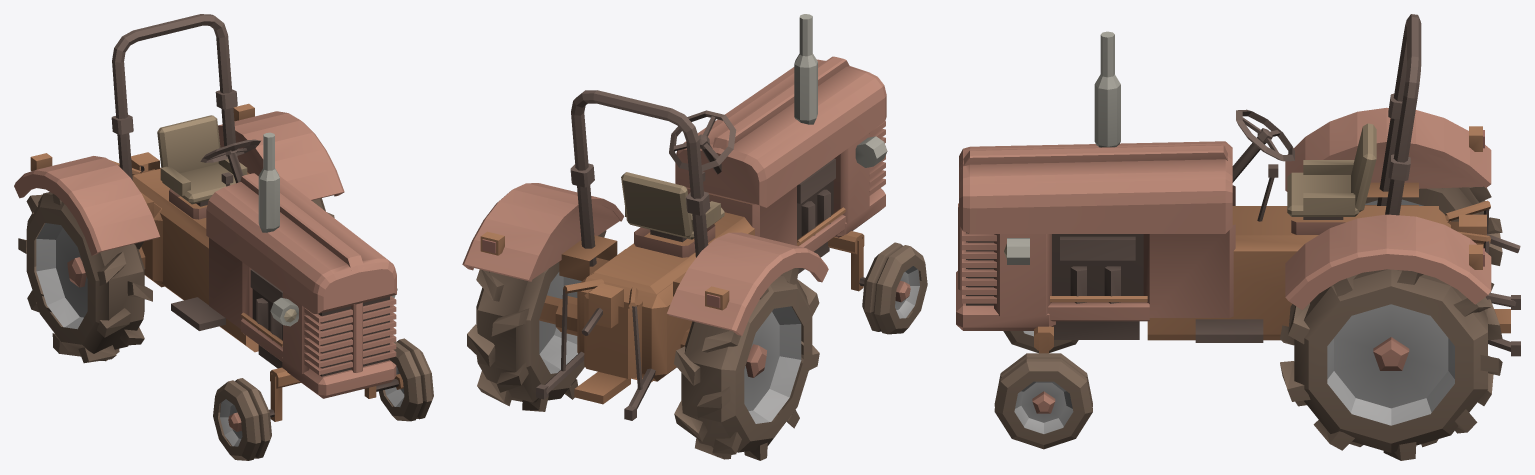
Rendered from tractor.glb.
3 renders of one model, left to right at view 1: azimuth 30°, elevation 25°; view 2: azimuth 150°, elevation 25°; view 3: azimuth 270°, elevation 25°, orthographic. The views are drawn at different scales.
Parts seen in each view (by area): view 1: tractor; view 2: tractor; view 3: tractor.
Boxes of the visible parts, <box> form: tractor: <box>14,14,433,460</box>; tractor: <box>462,14,927,460</box>; tractor: <box>956,14,1520,460</box>.
Size of the model in its own units: 1.71 by 2 by 2.83.
